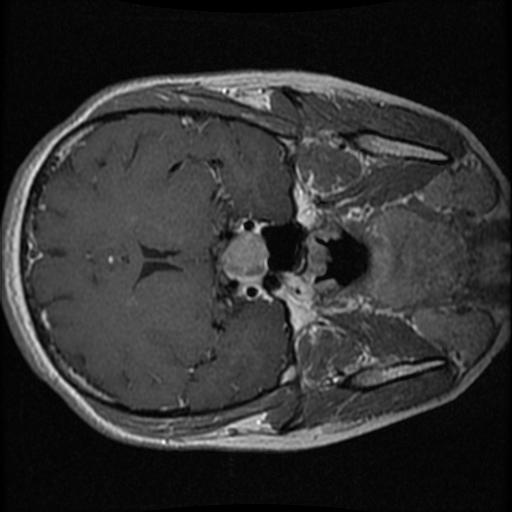pituitary tumour: (220, 231, 267, 281)
